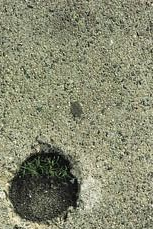Spalling: (7, 151, 82, 223)
